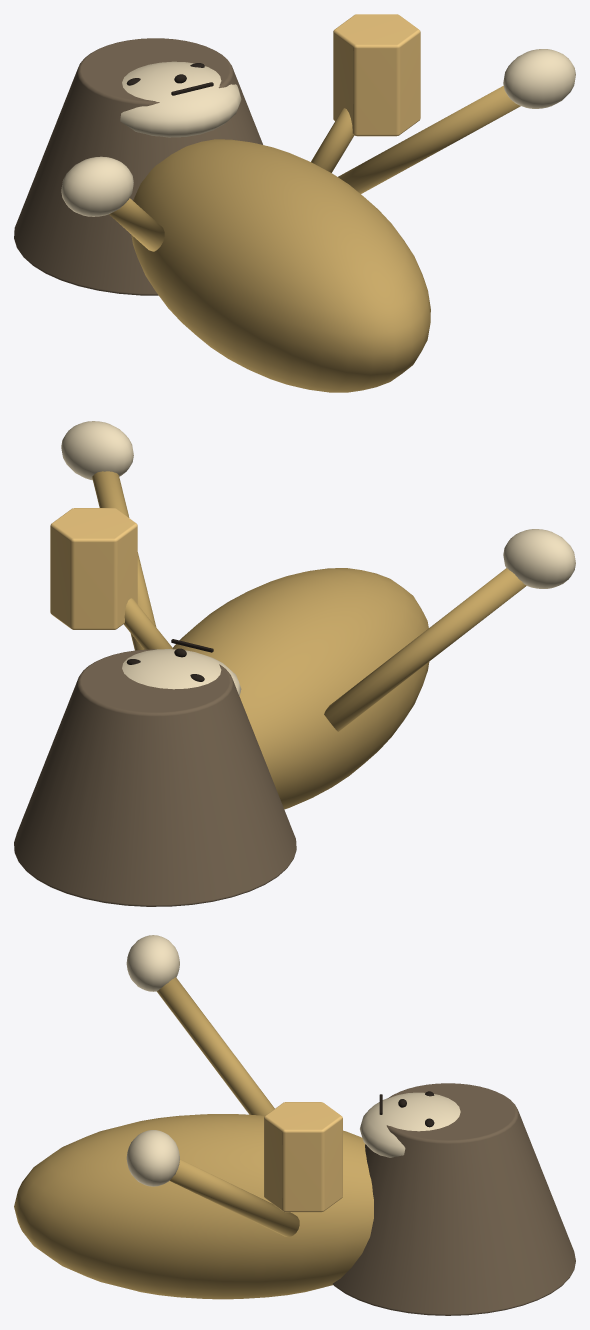
Rendered from avatar-lantern.glb.
The picture shows the model from 3 angles, top to bottom: view 1: azimuth 30°, elevation 25°; view 2: azimuth 150°, elevation 25°; view 3: azimuth 270°, elevation 25°; orthographic projection. The views are drawn at different scales.
Visible parts, largest first — view 1: lantern_body, lantern_hood, lantern_frame, lantern_face, lantern_right_arm, lantern_left_hand, lantern_right_hand, lantern_left_arm, lantern_arm; view 2: lantern_hood, lantern_body, lantern_frame, lantern_left_arm, lantern_left_hand, lantern_right_hand, lantern_face, lantern_right_arm, lantern_arm; view 3: lantern_body, lantern_hood, lantern_frame, lantern_left_arm, lantern_face, lantern_right_arm, lantern_right_hand, lantern_left_hand.
Part boxes in pixels (x1,y1,x2,y2): lantern_body: (131, 139, 430, 392); lantern_hood: (14, 38, 262, 295); lantern_frame: (333, 14, 420, 136); lantern_face: (120, 61, 241, 137); lantern_right_arm: (338, 86, 520, 193); lantern_left_hand: (61, 156, 133, 216); lantern_right_hand: (503, 49, 575, 108); lantern_left_arm: (109, 198, 164, 251); lantern_arm: (311, 108, 354, 172); lantern_hood: (14, 649, 296, 906); lantern_body: (173, 568, 429, 809); lantern_frame: (50, 508, 137, 629); lantern_left_arm: (324, 568, 526, 731); lantern_left_hand: (503, 529, 575, 588); lantern_right_hand: (61, 421, 133, 480); lantern_face: (122, 649, 241, 696); lantern_right_arm: (92, 471, 156, 650); lantern_arm: (123, 598, 172, 649); lantern_body: (14, 1114, 373, 1299); lantern_hood: (332, 1083, 575, 1315); lantern_frame: (264, 1102, 342, 1212); lantern_left_arm: (157, 977, 274, 1115); lantern_face: (360, 1092, 460, 1157); lantern_right_arm: (169, 1159, 299, 1237); lantern_right_hand: (126, 1130, 179, 1186); lantern_left_hand: (126, 935, 179, 991).
Bounding box in the file's own units: 1.98 × 1.04 × 2.1.
